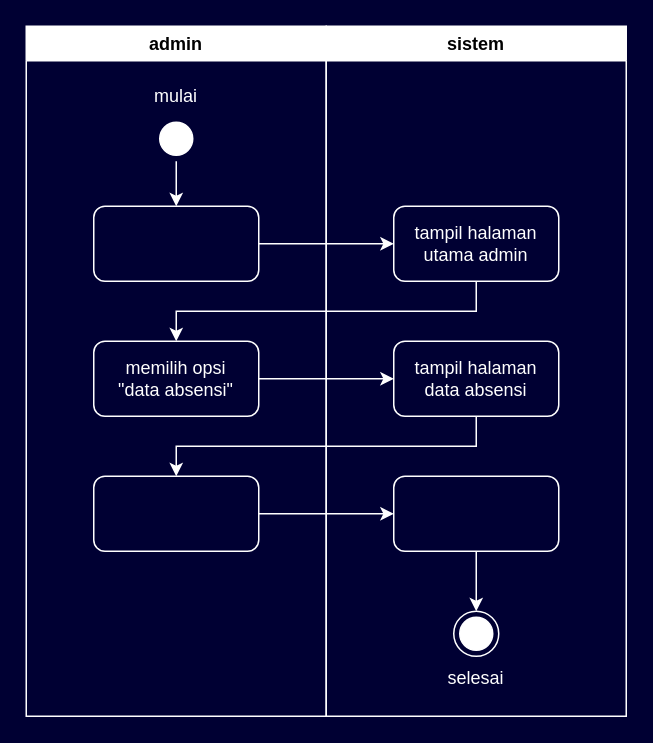
Some shapes in this 653 by 743 pixel diagram are drawn without their labels. Here are the shapes that lost their labels. From the top down, the centre of each, then its label:
(x=175, y=243): masuk ke halaman utama sebagai admin
(x=175, y=513): memilih opsi "cetak data"
(x=475, y=513): mencetak data format pdf
